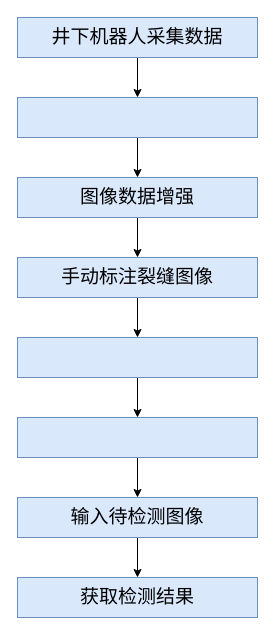
Image size: 275x635. Some labels were removed from this diagram. The shapes that lost their labels are listed below. From the top down, each one's box as (x1, y1, x2, y2) in pixels, then its label:
(16, 96, 258, 138): 剔除低质数据
(16, 336, 258, 378): 构建裂缝图像数据库
(16, 416, 258, 458): 训练改进Efficientdet模型
